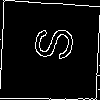S: (25, 26, 74, 62)
